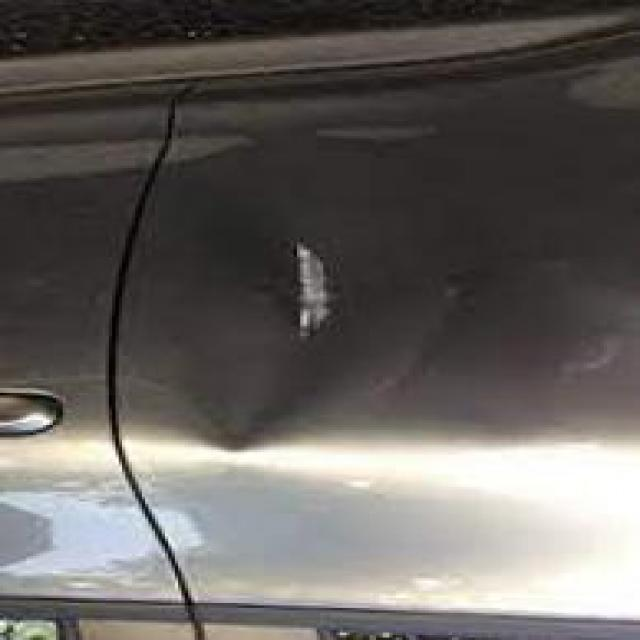dent: (148, 176, 366, 460)
